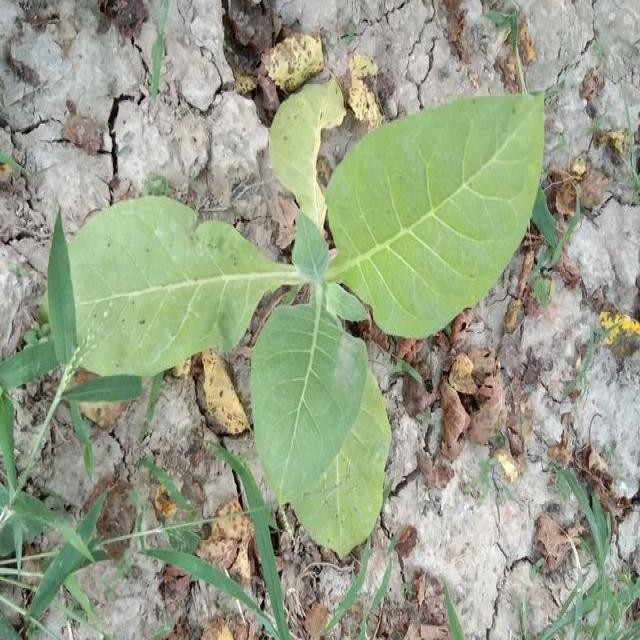crop: (290, 95, 544, 338), (65, 202, 292, 363), (254, 290, 384, 550)
